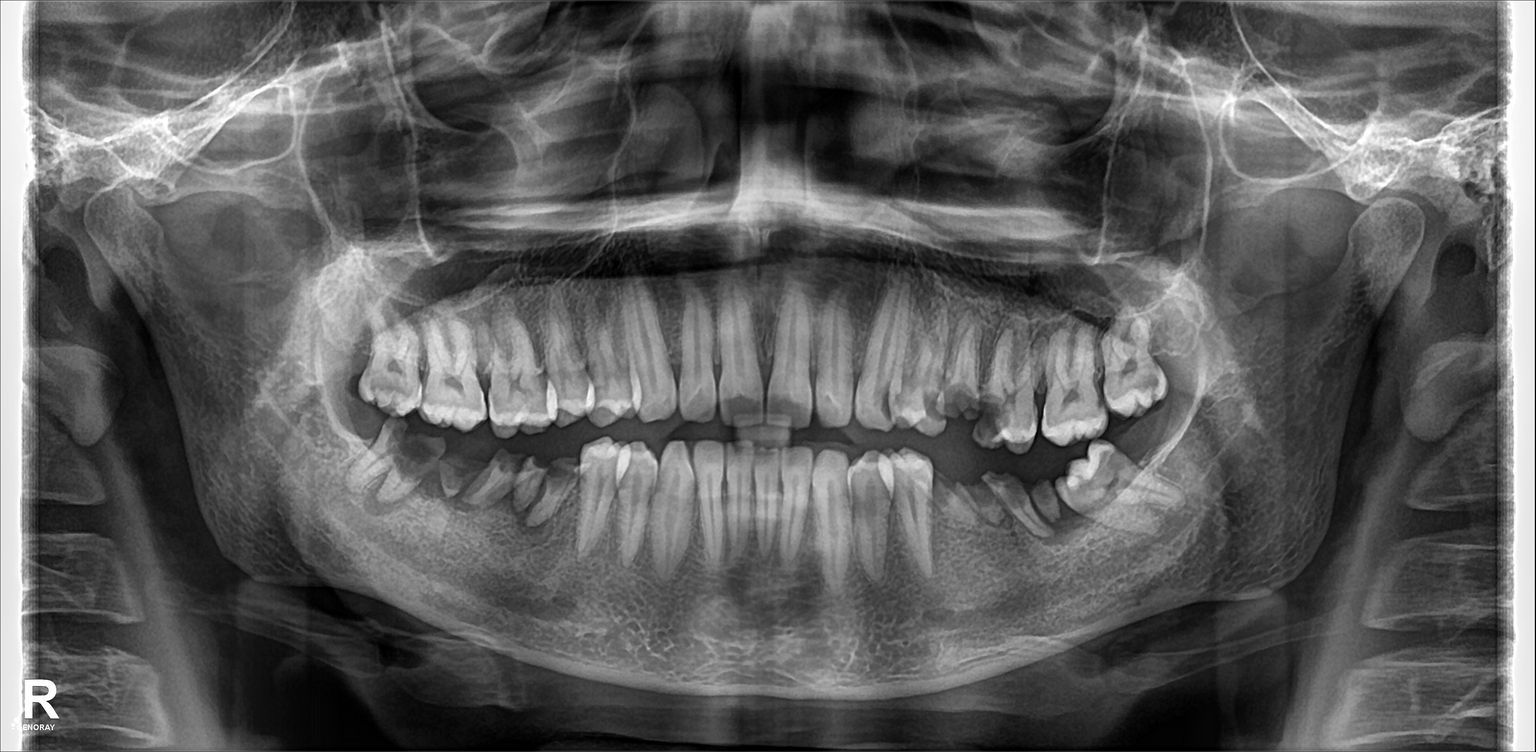Dental Caries: (384, 439, 435, 475), (765, 395, 805, 422), (723, 396, 757, 420), (978, 396, 1000, 431), (948, 389, 976, 416), (926, 383, 946, 419)
Impacted Third Molar: (1067, 456, 1183, 523), (362, 424, 439, 500)
Retained Root: (434, 441, 475, 502), (927, 473, 956, 551), (1000, 473, 1029, 545), (477, 443, 512, 502), (1035, 471, 1065, 538), (551, 445, 575, 523), (967, 473, 989, 547), (518, 449, 541, 511)
